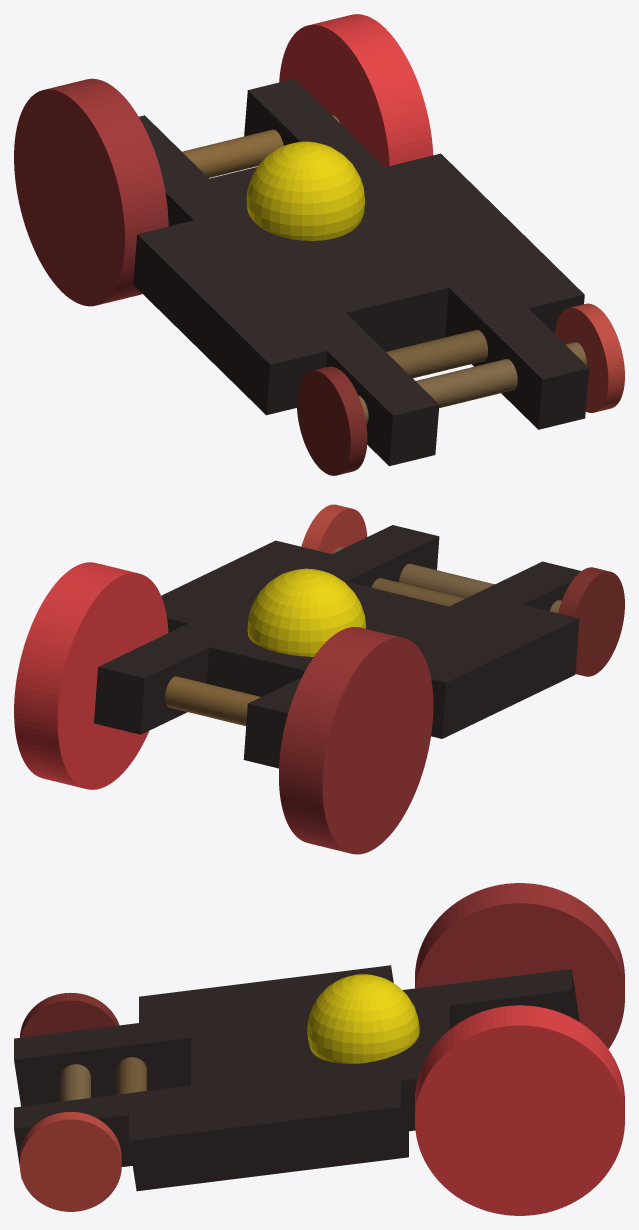
The model's file is toyCarWorkingNoParent.glb.
3 renders of one model, top to bottom at view 1: azimuth 30°, elevation 25°; view 2: azimuth 150°, elevation 25°; view 3: azimuth 270°, elevation 25°, orthographic. The views are drawn at different scales.
Parts seen in each view (by area): view 1: Chassis, BackRightTire, BackLeftTire, PlayerHead, FrontRightTire, FrontLeftTire, FrontBarWheels, FrontAestheticBar, BackBarWheels; view 2: Chassis, BackRightTire, BackLeftTire, PlayerHead, FrontRightTire, BackBarWheels, FrontLeftTire, FrontBarWheels, FrontAestheticBar; view 3: Chassis, BackLeftTire, BackRightTire, FrontLeftTire, PlayerHead, FrontRightTire, FrontBarWheels, FrontAestheticBar.
Part boxes in pixels (x1,y1,x2,y2): Chassis: (133,79,589,466); BackRightTire: (14,78,168,306); BackLeftTire: (279,14,433,166); PlayerHead: (246,141,365,240); FrontRightTire: (297,366,367,475); FrontLeftTire: (554,303,624,412); FrontBarWheels: (358,342,586,424); FrontAestheticBar: (386,330,488,378); BackBarWheels: (182,115,339,177); Chassis: (94,525,580,768); BackRightTire: (279,627,433,854); BackLeftTire: (14,562,168,789); PlayerHead: (247,568,366,656); FrontRightTire: (558,567,624,676); BackBarWheels: (165,676,260,726); FrontLeftTire: (301,504,367,553); FrontBarWheels: (334,547,561,612); FrontAestheticBar: (371,578,464,606); Chassis: (14,965,579,1191); BackLeftTire: (415,1005,624,1215); BackRightTire: (415,883,624,1048); FrontLeftTire: (20,1111,121,1211); PlayerHead: (307,974,419,1063); FrontRightTire: (20,992,119,1037); FrontBarWheels: (60,1064,90,1101); FrontAestheticBar: (116,1057,146,1094).
Bounding box in the file's own units: 6 × 3.81 × 10.85.
